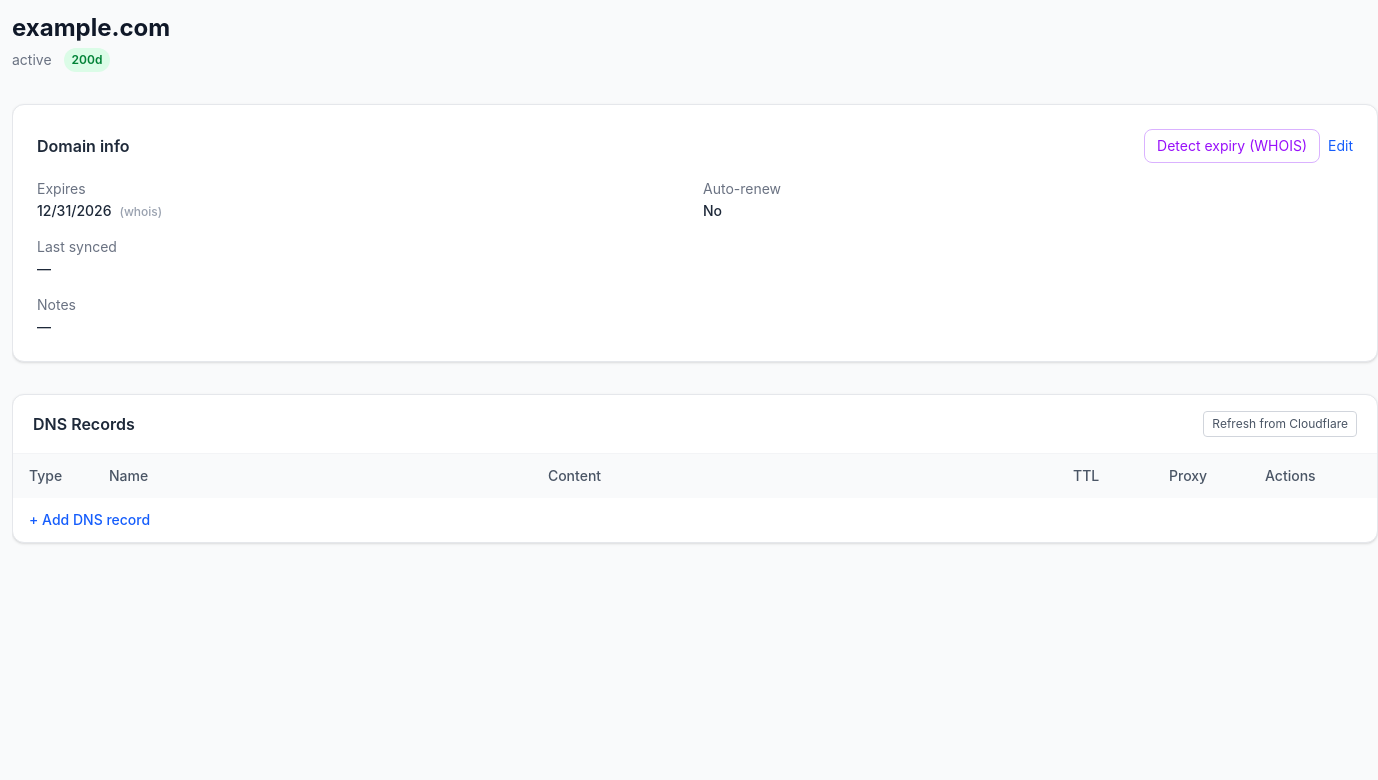
Test: DomainDetail — WHOIS › shows non-alarming warning and opens edit form when WHOIS returns 422 (no date found)
Step 1. Click the button "Detect expiry (WHOIS)" → (1232, 146), box [1144, 129, 1320, 163]
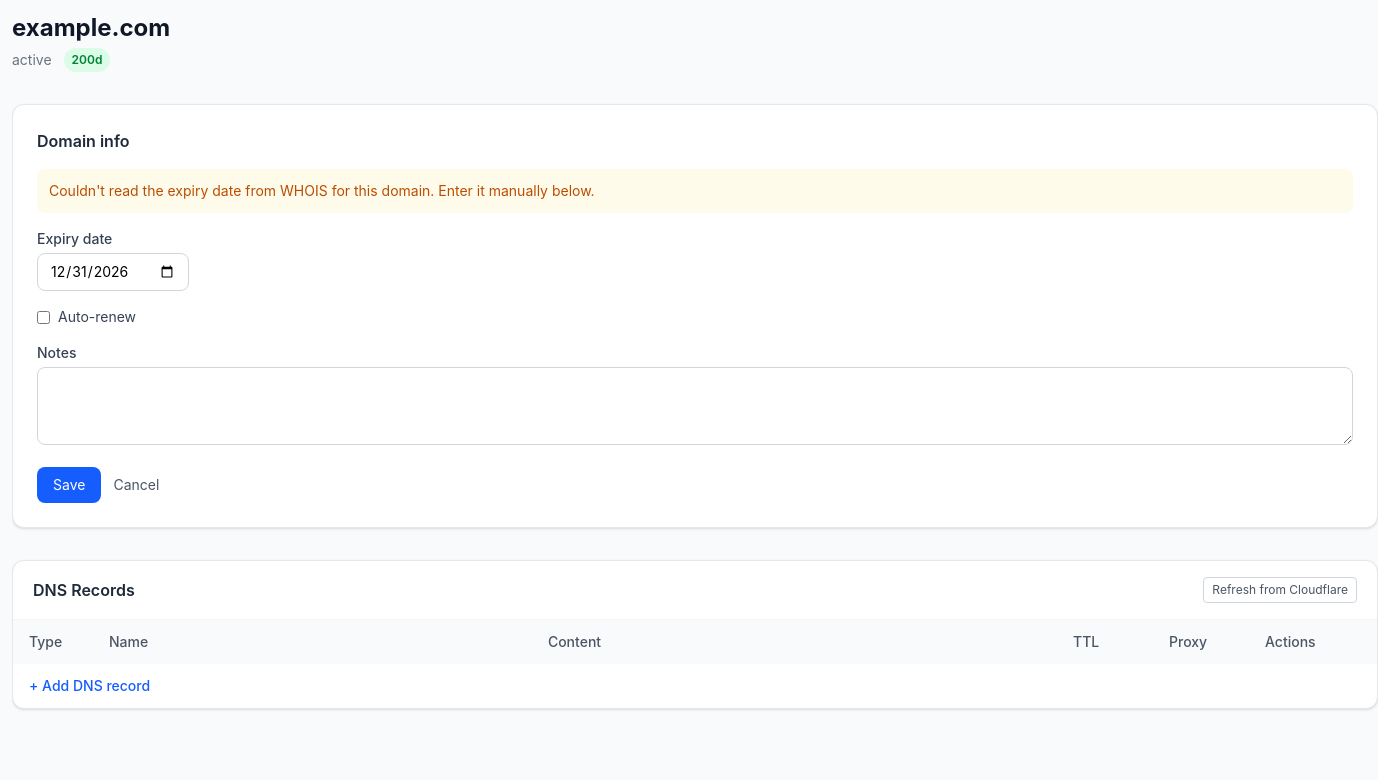
Check: the message shows "Couldn't read the expiry date", box [49, 182, 595, 199]
Check: the date field labelled "Expiry date" is shown, box [37, 253, 189, 291]
